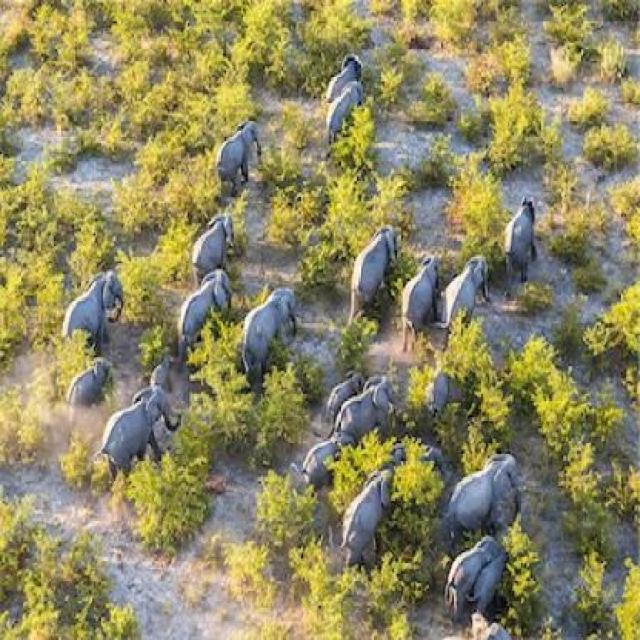elephant: (99, 376, 184, 478), (440, 444, 534, 528), (242, 272, 306, 386), (343, 462, 394, 564), (66, 258, 132, 336), (343, 216, 408, 295), (167, 271, 241, 337), (436, 242, 490, 328), (391, 242, 443, 324), (334, 369, 406, 428), (295, 429, 356, 496), (500, 176, 538, 282), (434, 534, 498, 591), (215, 116, 260, 195), (310, 35, 362, 102), (190, 216, 236, 282), (322, 354, 378, 408), (67, 346, 113, 411), (332, 82, 373, 153), (417, 348, 451, 429), (474, 555, 517, 619), (388, 438, 447, 478), (143, 339, 186, 386)
